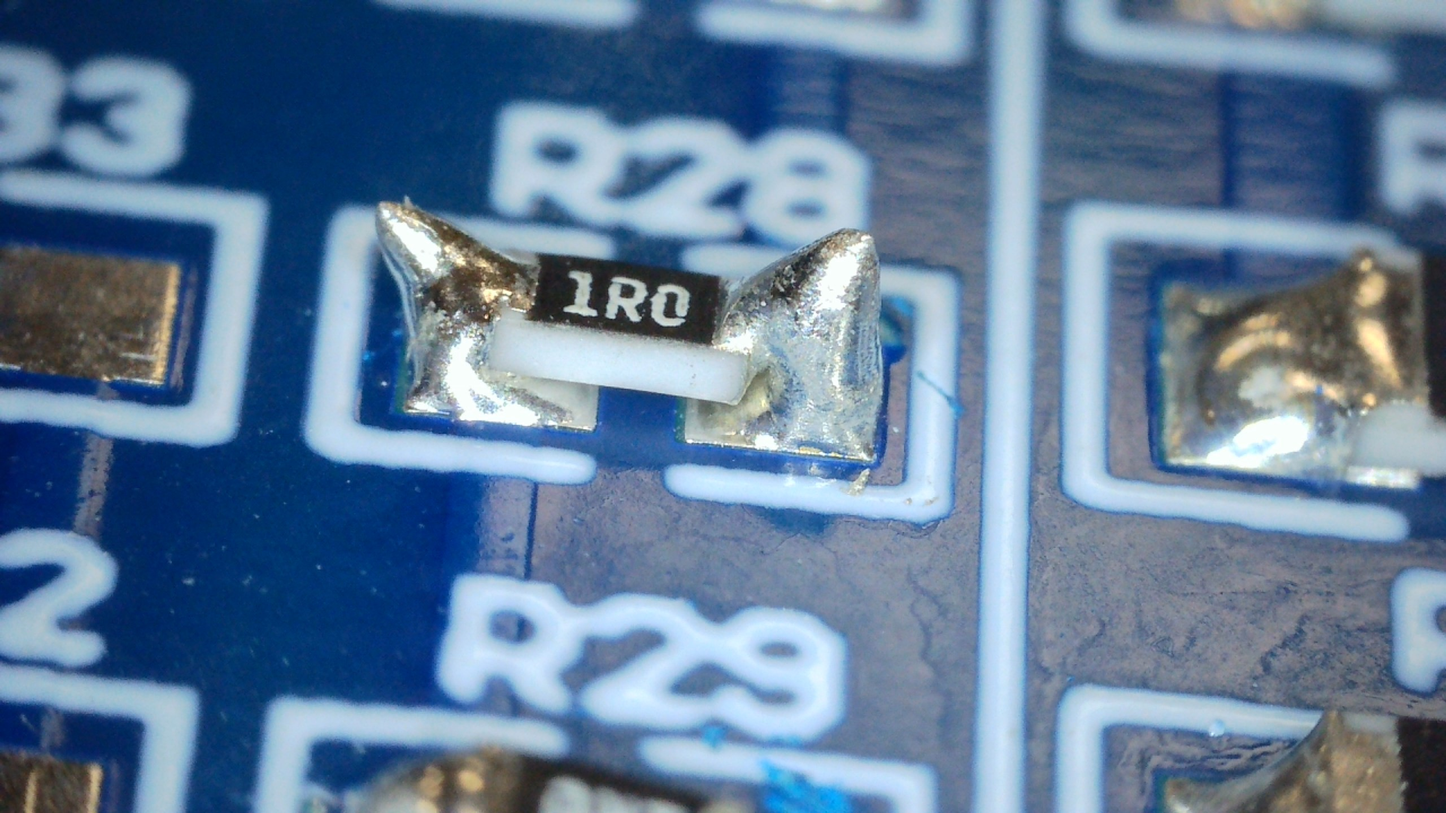NG: (718, 229, 883, 461), (375, 202, 521, 409)
